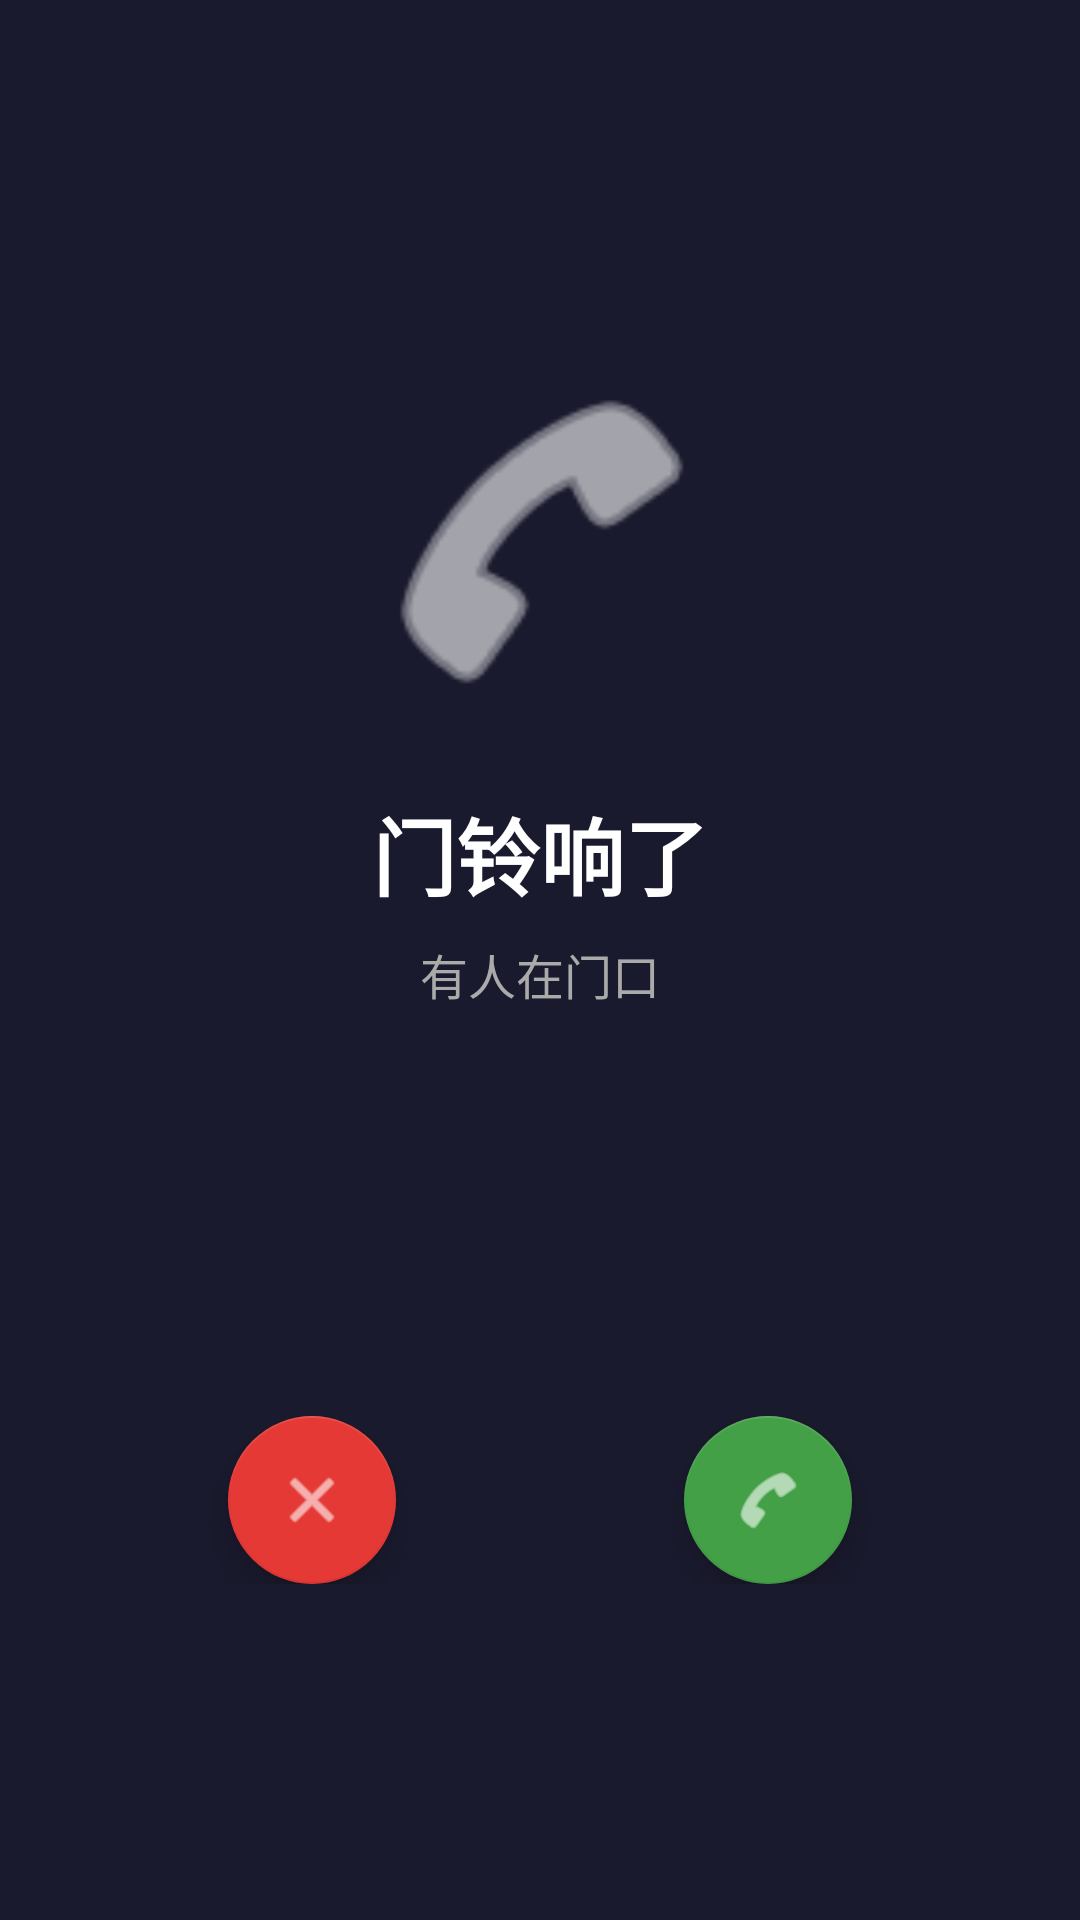

Named icons in this screenshot (1080×1920) and their centers, [x,y]:
call: [542,542]
拒绝: [312,1500]
接听: [768,1500]
